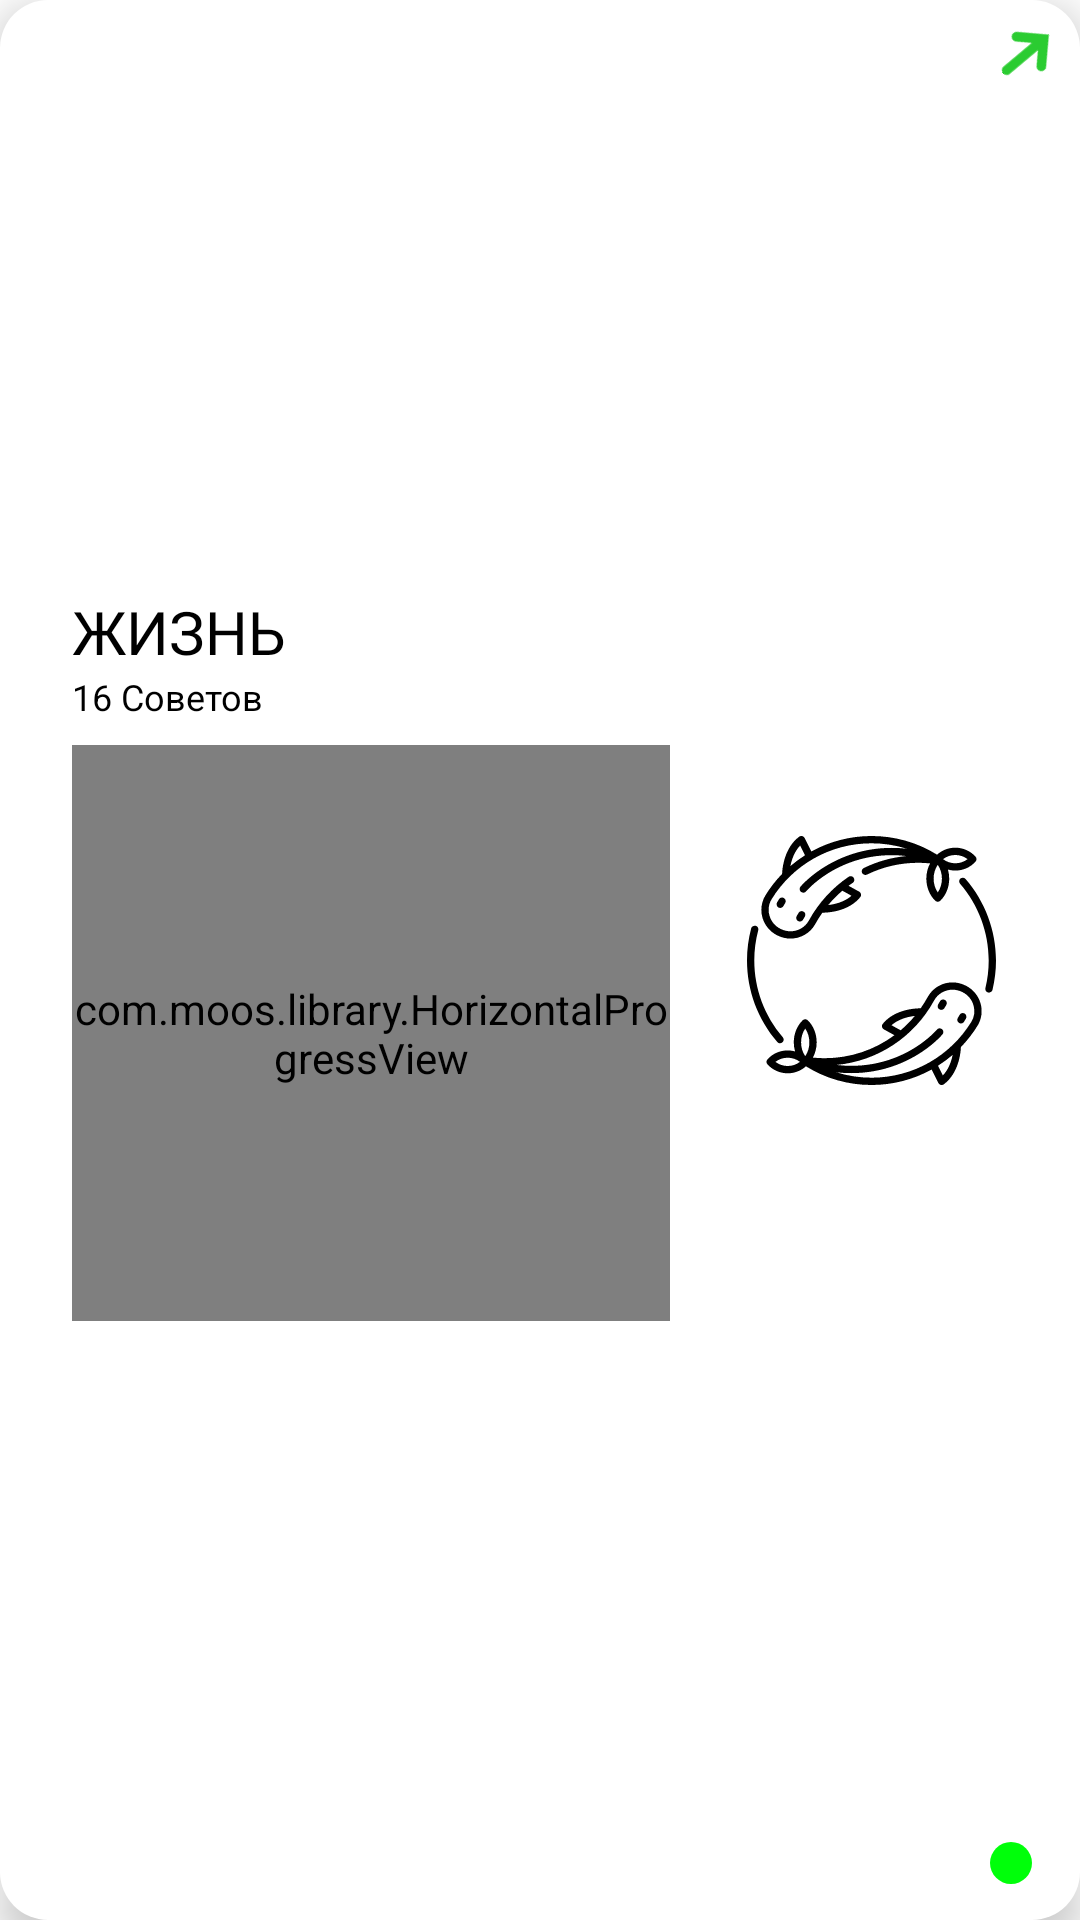

Icon click points for this 1080px x 1920px phone screenshot, format (x=x, y=y):
goldfish: (x=871, y=960)
